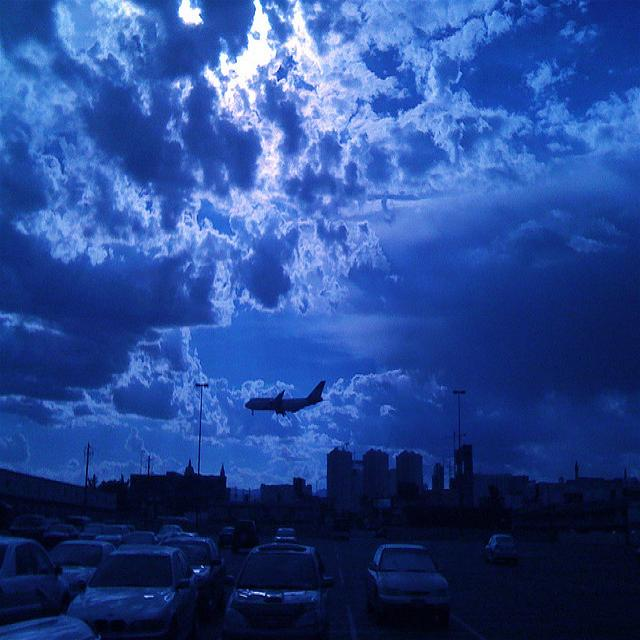motor: (173, 562, 235, 640)
